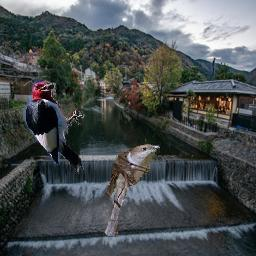Cuckoo: (104, 144, 161, 236)
Woodpecker: (23, 76, 87, 175)
